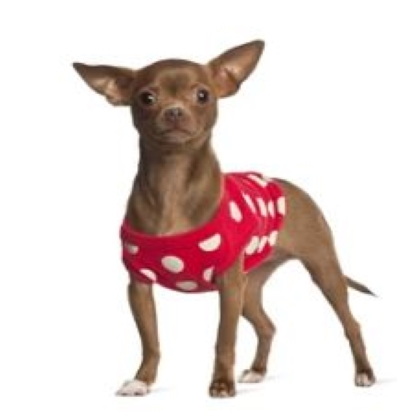chihuahua: (73, 37, 380, 399)
